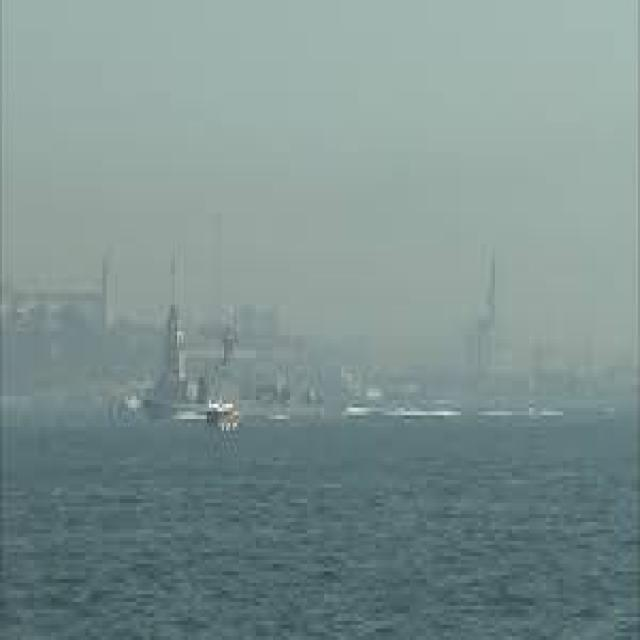cargoship: (207, 390, 254, 450)
